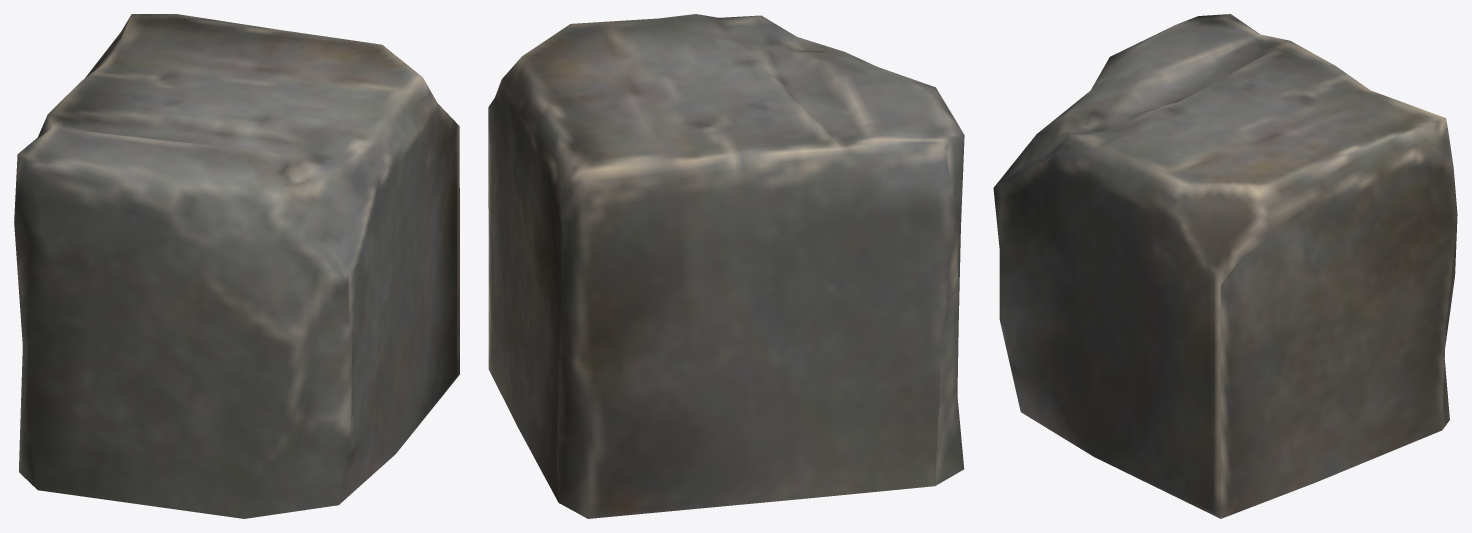
File: Rock_A6.fbx
The picture shows the model from 3 angles, left to right: view 1: azimuth 30°, elevation 25°; view 2: azimuth 150°, elevation 25°; view 3: azimuth 270°, elevation 25°; orthographic projection. The views are drawn at different scales.
Parts seen in each view (by area): view 1: Rock_A6__1_; view 2: Rock_A6__1_; view 3: Rock_A6__1_.
Boxes of the visible parts, bbox=[...] form: Rock_A6__1_: bbox=[14, 14, 459, 518]; Rock_A6__1_: bbox=[488, 14, 964, 518]; Rock_A6__1_: bbox=[993, 14, 1457, 518].
Size of the model in its own units: 0.3365 by 0.2365 by 0.3232.
1 material, 1 textured.
